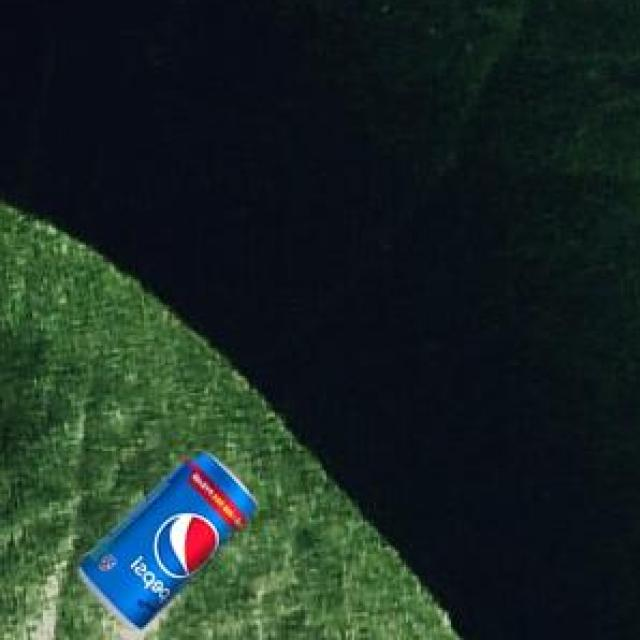logam: (76, 456, 252, 632)
